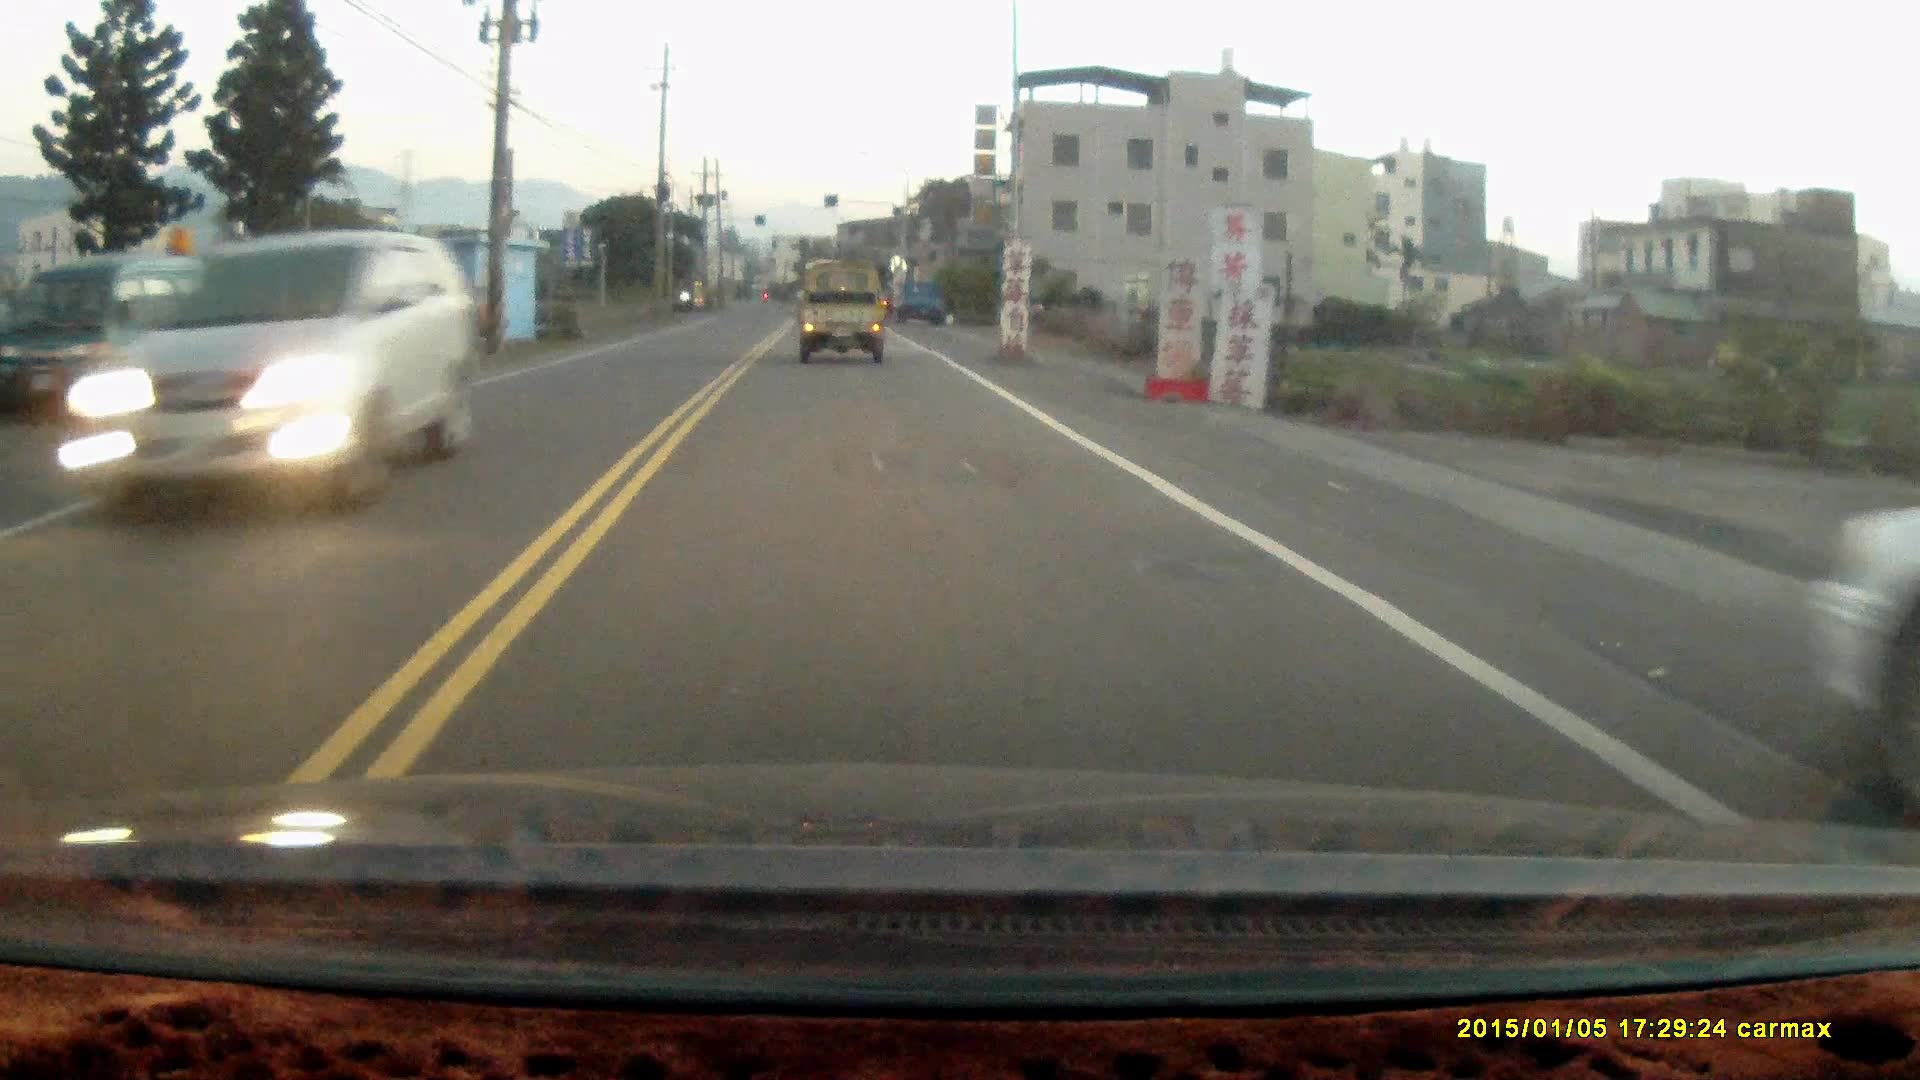vehicle: (109, 229, 465, 512), (796, 273, 890, 372), (897, 280, 949, 330)
